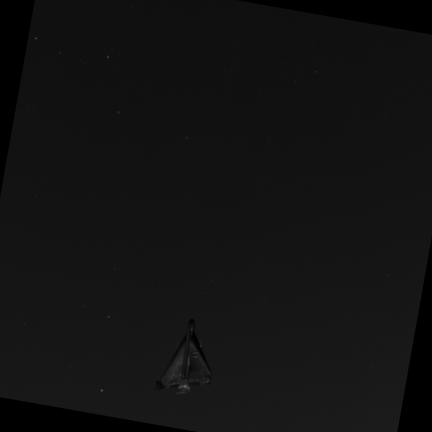Shahed: (155, 319, 212, 393)
